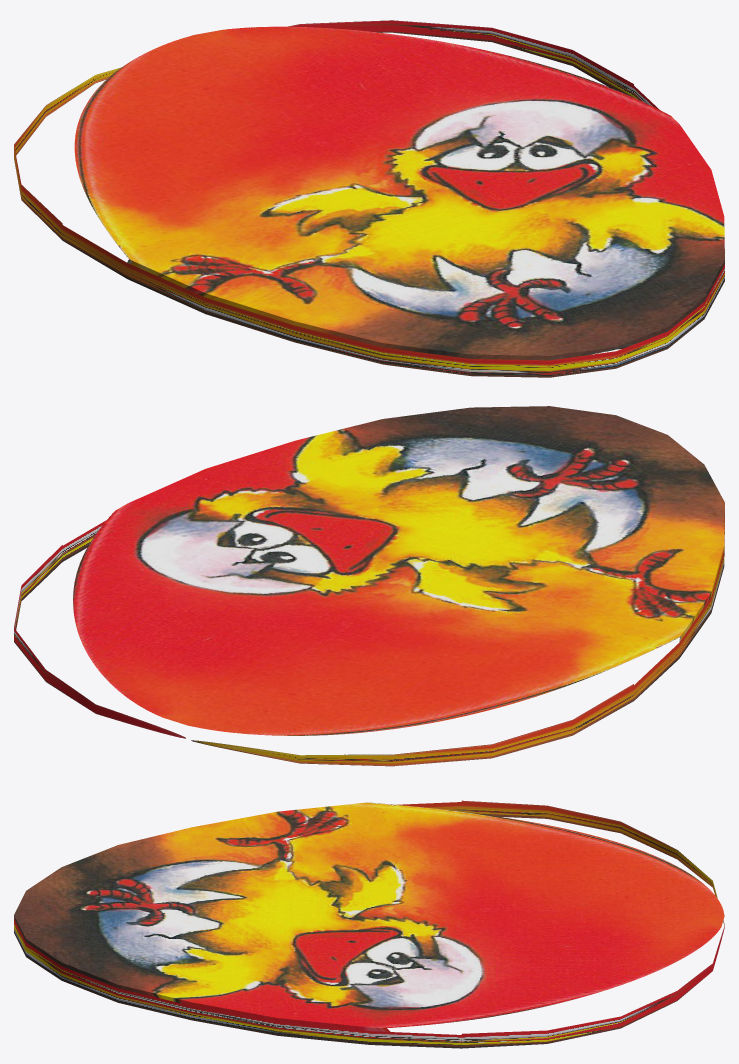
The model's file is chiken_ccc__board.FBX.
The picture shows the model from 3 angles, top to bottom: view 1: azimuth 30°, elevation 25°; view 2: azimuth 150°, elevation 25°; view 3: azimuth 270°, elevation 25°; orthographic projection. The views are drawn at different scales.
Parts seen in each view (by area): view 1: Cone001; view 2: Cone001; view 3: Cone001.
Part boxes in pixels (x1=…): Cone001: x1=14, y1=20, x2=724, y2=377; Cone001: x1=14, y1=406, x2=724, y2=766; Cone001: x1=14, y1=800, x2=724, y2=1048.
Size of the model in its own units: 228 by 8.34 by 294.
